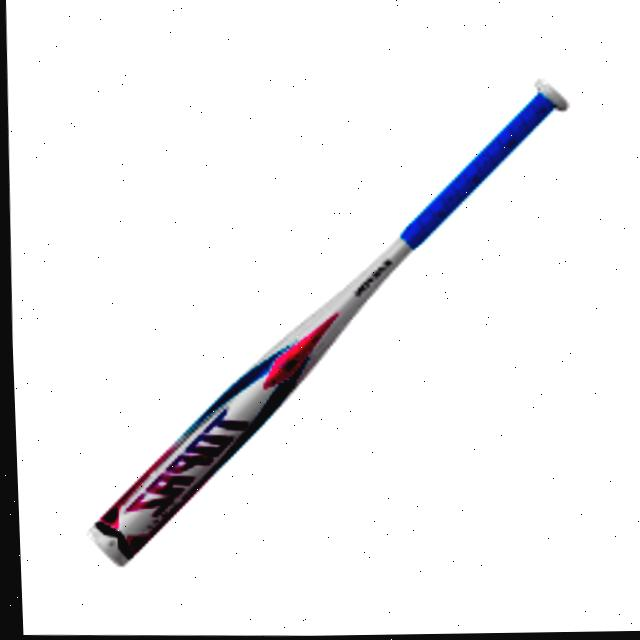baseball bat: (66, 68, 579, 573)
